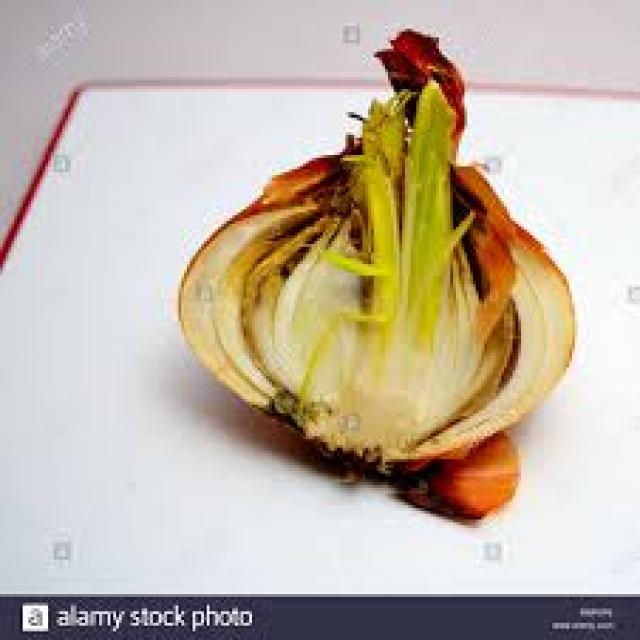organic waste: (170, 23, 572, 476), (385, 425, 518, 519)
